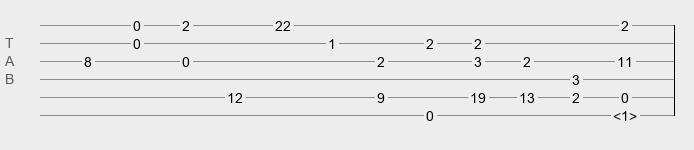0: (133, 36, 141, 46), (133, 18, 141, 28), (182, 54, 190, 64), (426, 108, 434, 118), (621, 90, 629, 100)
1: (328, 36, 336, 46)
11: (617, 54, 633, 64)
12: (227, 90, 243, 100)
13: (519, 90, 535, 100)
19: (470, 90, 486, 100)
2: (182, 18, 190, 28), (377, 54, 385, 64), (426, 36, 434, 46), (474, 36, 482, 46), (523, 54, 531, 64), (572, 90, 580, 100), (621, 18, 629, 28)
22: (275, 18, 291, 28)
3: (474, 54, 482, 64), (572, 72, 580, 82)
8: (84, 54, 92, 64)
9: (377, 90, 385, 100)
harmonic: (613, 108, 637, 118)
